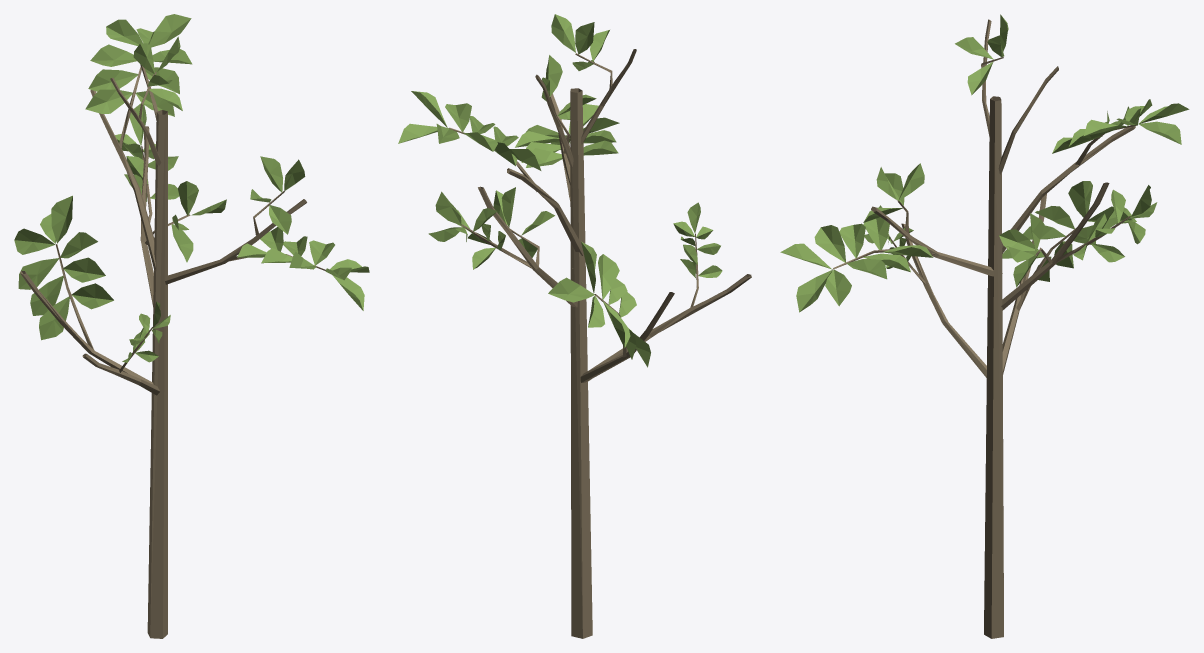
File: Peach_2_2.fbx
3 views of the same model, side by side, from view 1: azimuth 30°, elevation 25°; view 2: azimuth 150°, elevation 25°; view 3: azimuth 270°, elevation 25° (orthographic). The views are drawn at different scales.
Parts seen in each view (by area): view 1: Peach_2_2; view 2: Peach_2_2; view 3: Peach_2_2.
Boxes of the visible parts, <box> form: Peach_2_2: <box>14,14,369,638</box>; Peach_2_2: <box>398,14,751,638</box>; Peach_2_2: <box>780,14,1189,638</box>.
Size of the model in its own units: 99.17 by 220 by 133.
